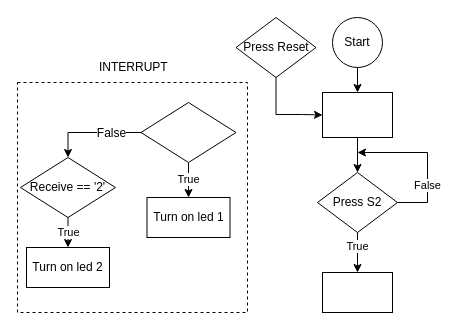
This 458x330 diagram has some shape labels left out. Each missing label, with the centre of its shape:
Init Send '1': (357,115)
Receive == '1': (188,132)
Send '2': (357,292)
